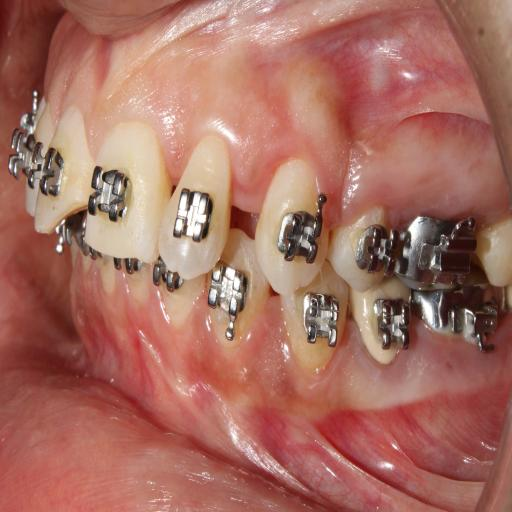correct_brace: (334, 199, 398, 292), (88, 154, 137, 224), (278, 200, 324, 264), (174, 178, 212, 246)
incorrect_brace: (160, 129, 232, 282), (356, 222, 397, 274)
